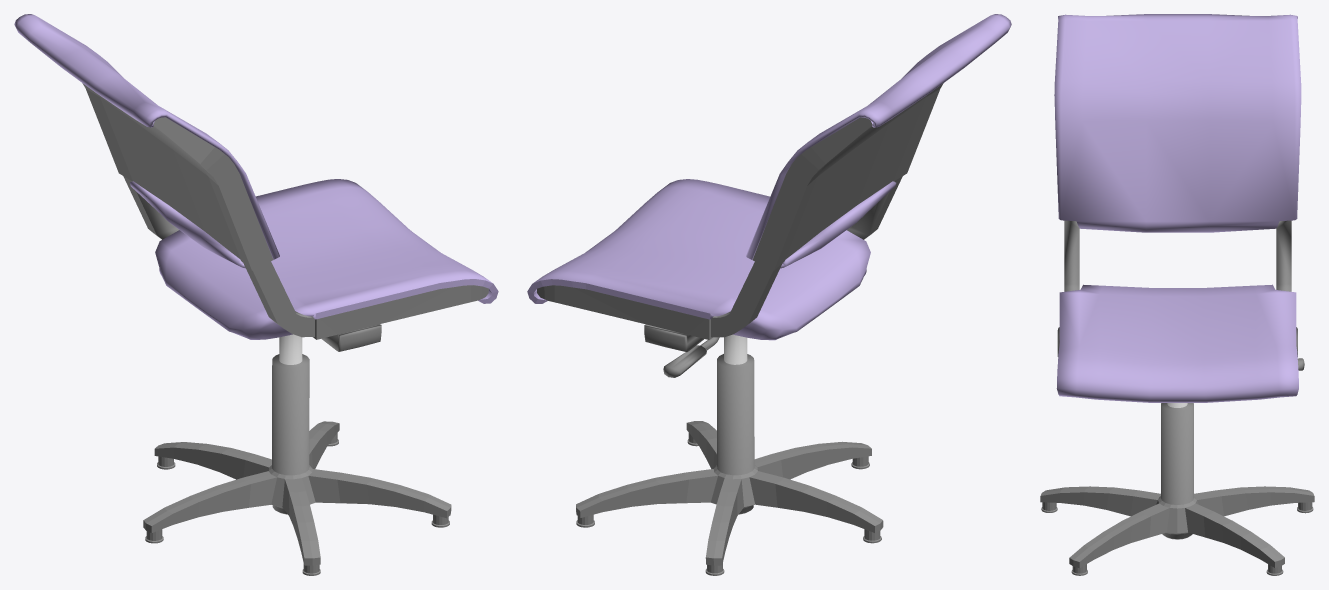
File: chair.dae
3 views of the same model, side by side, from view 1: azimuth 30°, elevation 25°; view 2: azimuth 150°, elevation 25°; view 3: azimuth 270°, elevation 25° (orthographic). The views are drawn at different scales.
Visible parts, largest first — view 1: Rolling_Chair; view 2: Rolling_Chair; view 3: Rolling_Chair.
Part boxes in pixels (<box>): Rolling_Chair: <box>14,14,498,575</box>; Rolling_Chair: <box>527,14,1011,575</box>; Rolling_Chair: <box>1040,14,1314,575</box>.
Bounding box in the file's own units: 0.5425 × 0.4128 × 0.7206.
